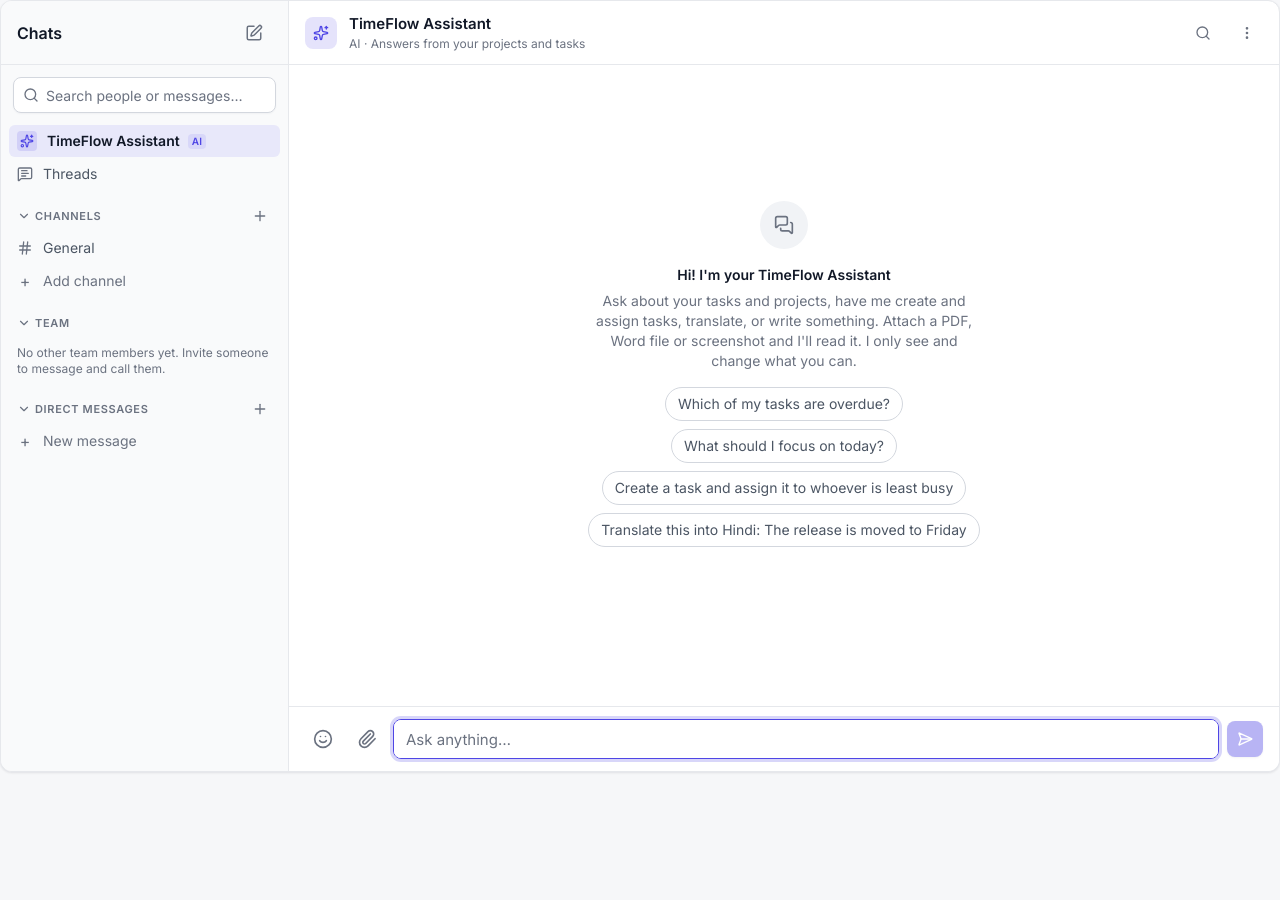
TimeFlow Assistant › can stop an answer while it is being written, keeping what arrived
This screenshot has width=1280, height=900.
Click the button "What should I focus on today?": (784, 446) [671,428,897,462]
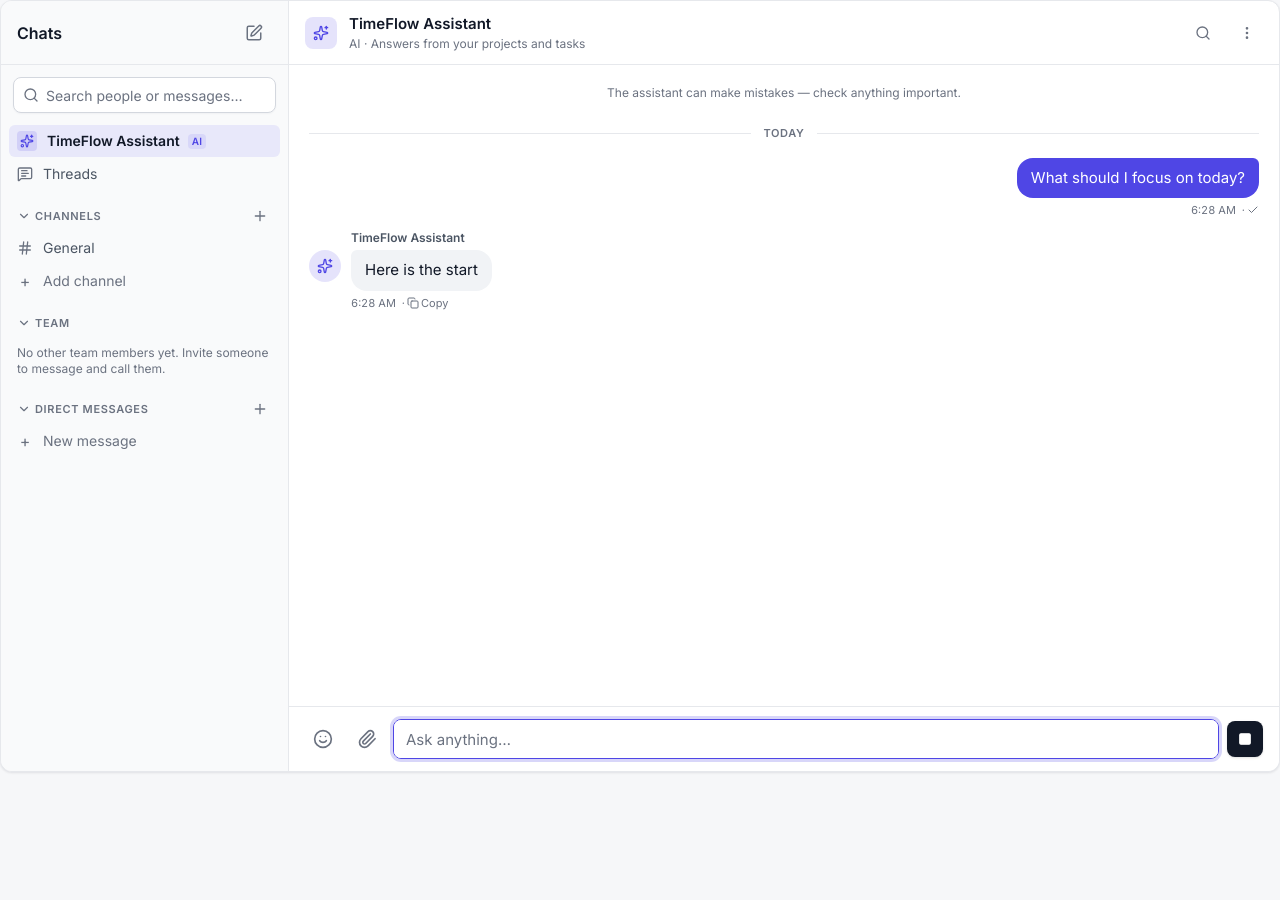
Expected: the text "Here is the start" is shown, [365,258,478,283]
Click the button named "Stop generating": (1245, 739) [1227,721,1263,757]
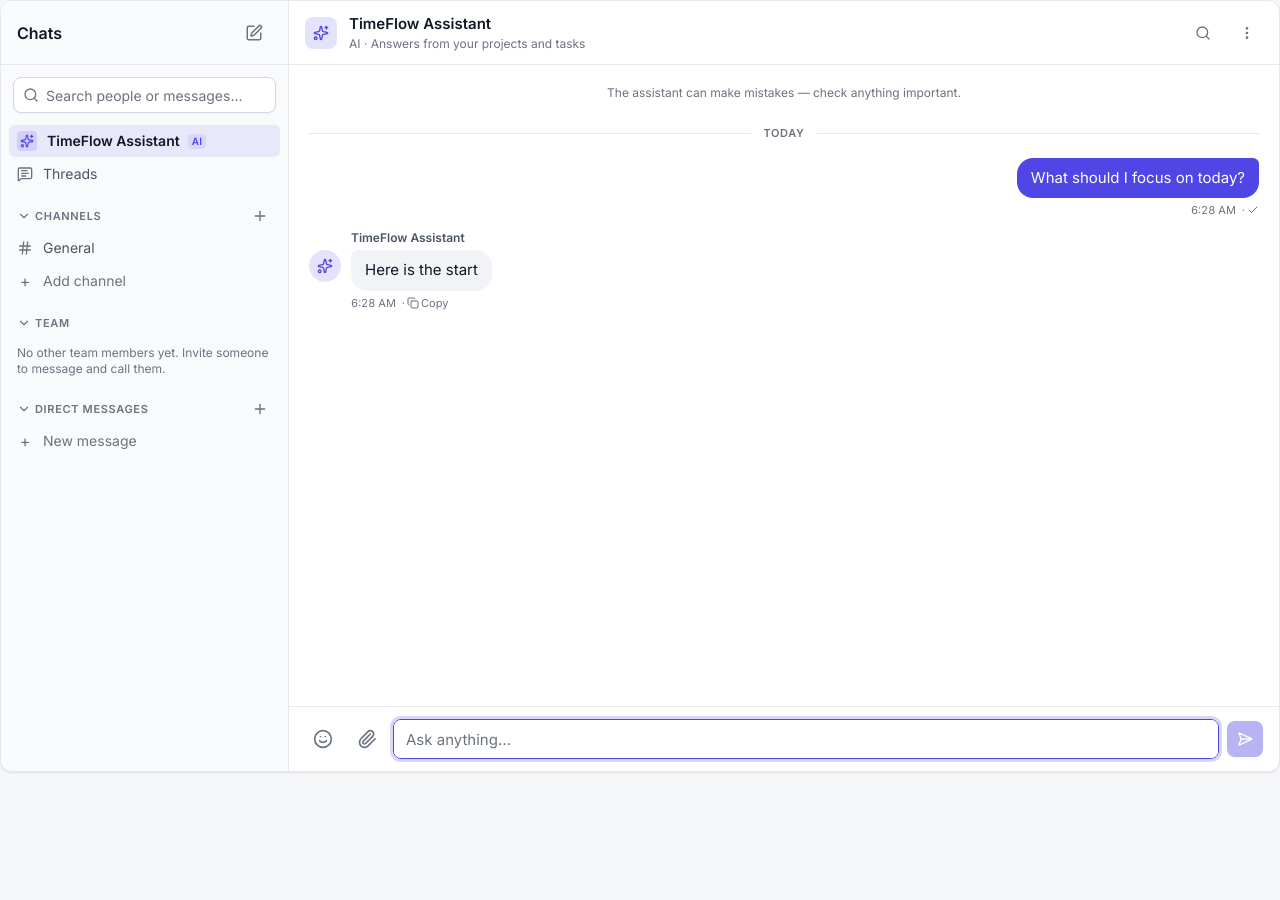
Expected: the text "Here is the start" is shown, [365,258,478,283]
Expected: the button named "Send message" is shown, [1227,721,1263,757]
